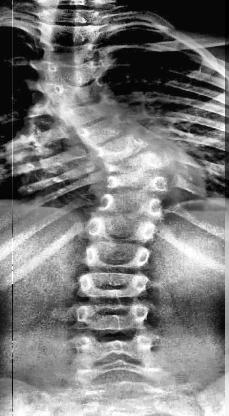Vertebrae: (71, 332, 159, 362), (74, 303, 154, 331), (74, 272, 150, 298), (82, 243, 156, 268), (98, 190, 168, 214), (90, 216, 158, 240), (48, 60, 108, 86), (61, 98, 118, 124), (103, 150, 175, 170), (95, 134, 155, 158), (77, 119, 131, 143), (107, 172, 173, 190), (44, 42, 100, 62), (43, 22, 102, 40), (54, 82, 105, 102)
